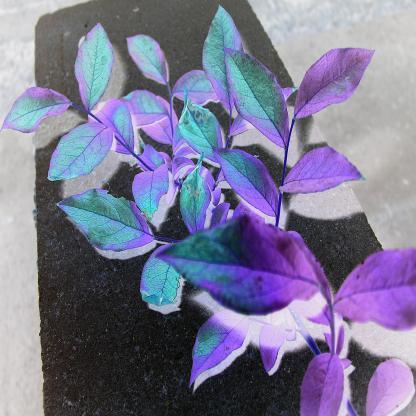Blueberry leaf: (157, 218, 331, 324), (286, 42, 380, 128), (225, 42, 291, 150), (53, 191, 164, 253), (178, 307, 256, 386), (204, 142, 283, 216), (280, 143, 372, 204), (200, 2, 242, 126), (43, 124, 118, 184), (175, 89, 229, 166), (2, 83, 75, 138), (294, 347, 348, 416), (122, 31, 166, 98), (70, 22, 102, 113), (133, 154, 174, 224)
